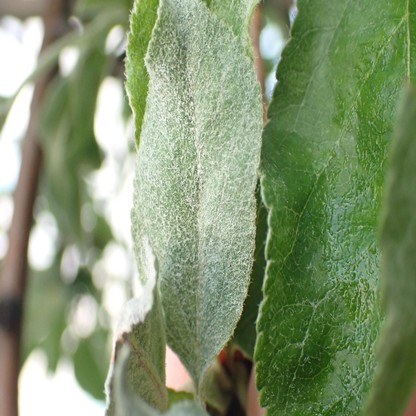powdery_mildew: (133, 2, 257, 396), (106, 289, 196, 414)
